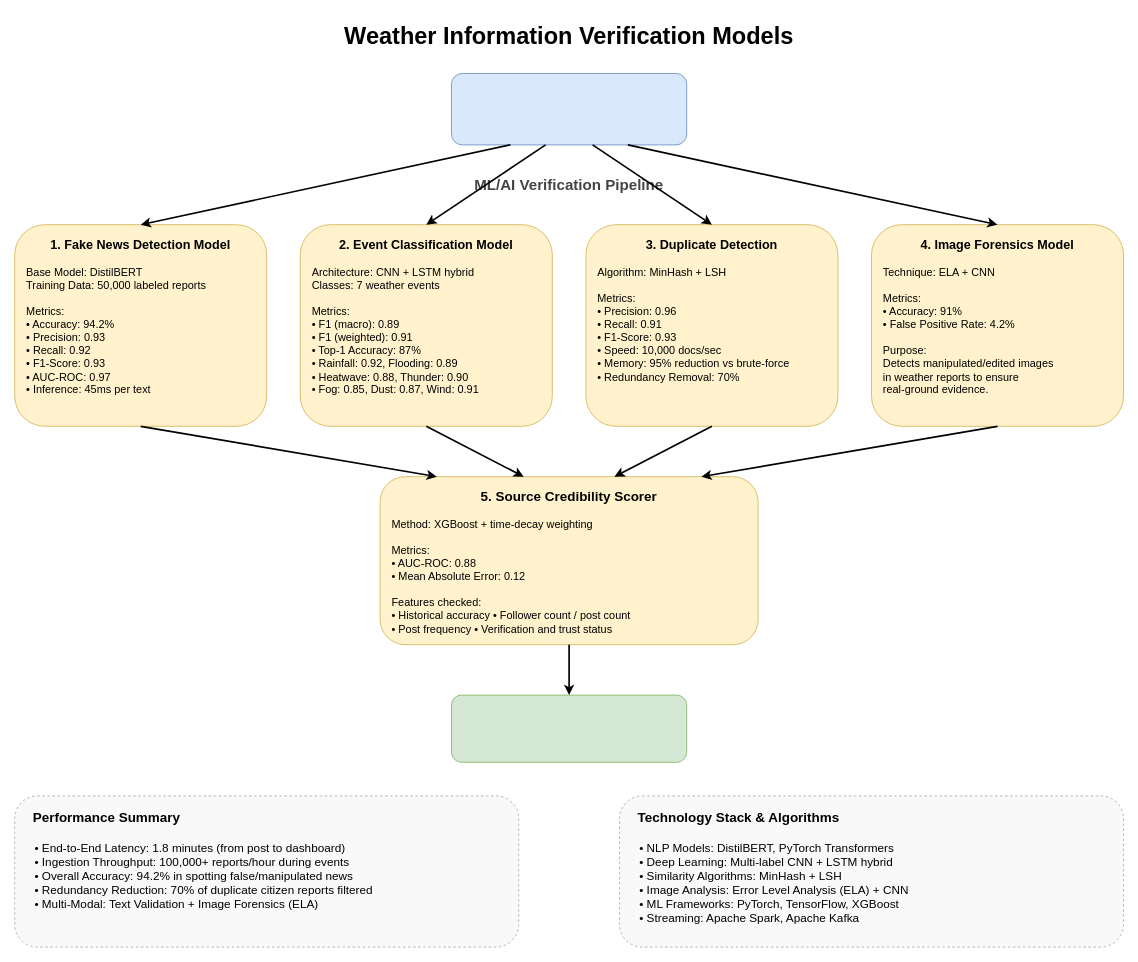
This 1138x962 diagram has some shape labels left out. Here are the shapes that lost their labels. From the top down, the centre of each, then its label:
At point 569,109: "Citizen Weather Reports (Text + Images + Metadata)".
At point 569,728: "Verified Weather Intelligence (Ready for Dashboard)".
